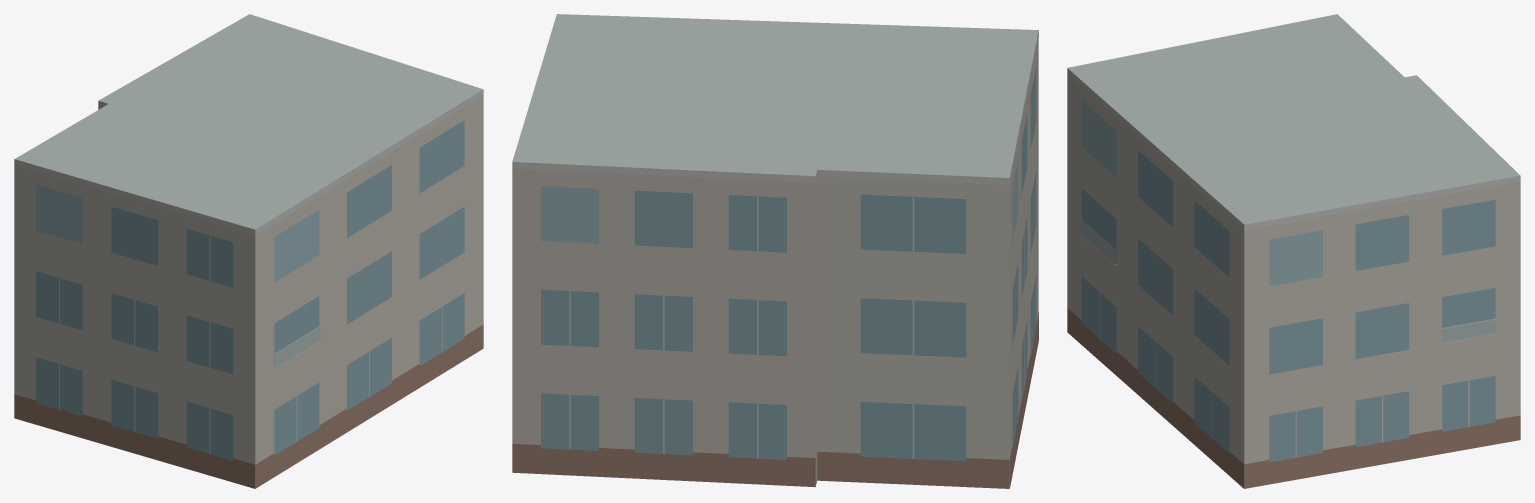
Rendered from survey-upis-32866375.glb.
3 renders of one model, left to right at view 1: azimuth 30°, elevation 25°; view 2: azimuth 150°, elevation 25°; view 3: azimuth 270°, elevation 25°, orthographic. The views are drawn at different scales.
Visible parts, largest first — view 1: survey-upis-32866375.tmp; view 2: survey-upis-32866375.tmp; view 3: survey-upis-32866375.tmp.
Boxes of the visible parts, x1,y1,x2,y2 form: survey-upis-32866375.tmp: (14, 14, 483, 488); survey-upis-32866375.tmp: (512, 14, 1038, 488); survey-upis-32866375.tmp: (1067, 14, 1520, 488).
Bounding box in the file's own units: 18.78 × 10.98 × 17.08.
